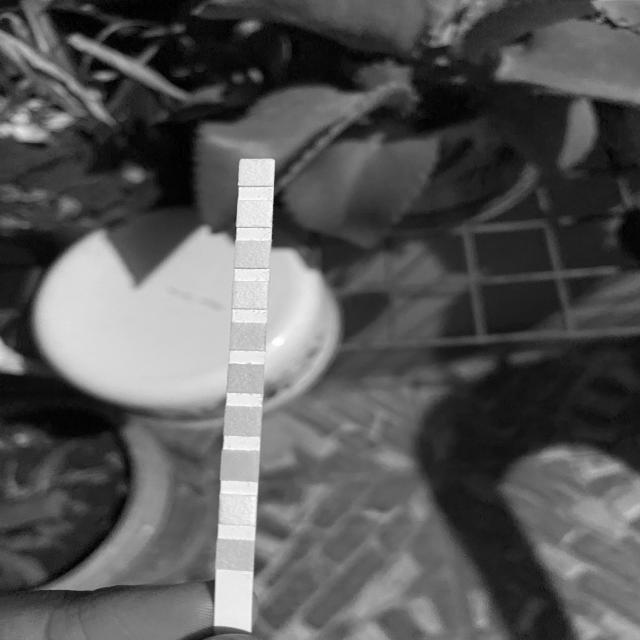Bilirubin: (220, 497, 256, 524)
Blood: (229, 366, 262, 392)
Glucose: (216, 541, 252, 568)
Ketone: (222, 452, 258, 479)
Leukocytes: (240, 159, 274, 186)
Nitrite: (238, 201, 271, 228)
Protein: (234, 282, 267, 308)
SpGravity: (225, 407, 261, 435)
Urobilinogen: (236, 241, 270, 268)
background: (0, 0, 640, 640)
pH: (232, 323, 266, 350)
strip: (214, 158, 275, 631)
